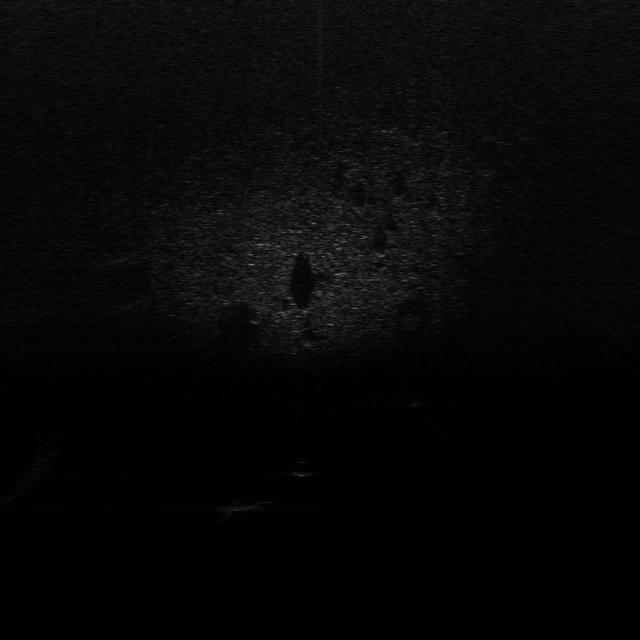ball: (293, 461, 319, 477)
square cage: (214, 495, 272, 514)
tyre: (393, 387, 427, 410)
